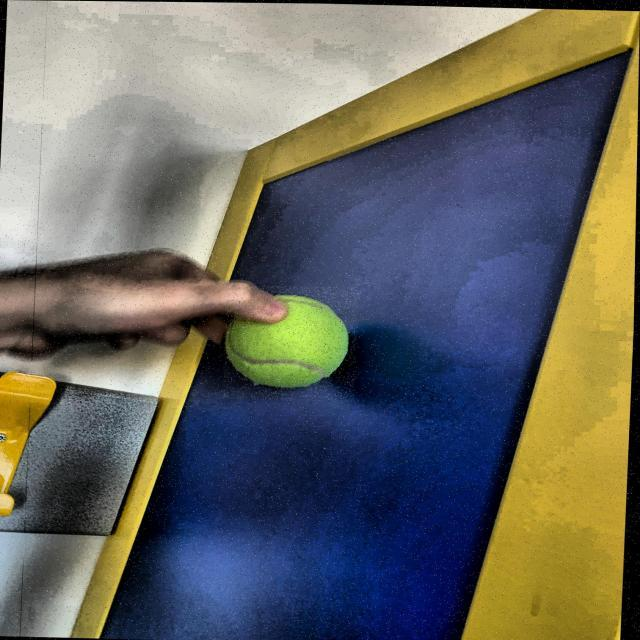tennis-ball: (224, 284, 360, 401)
